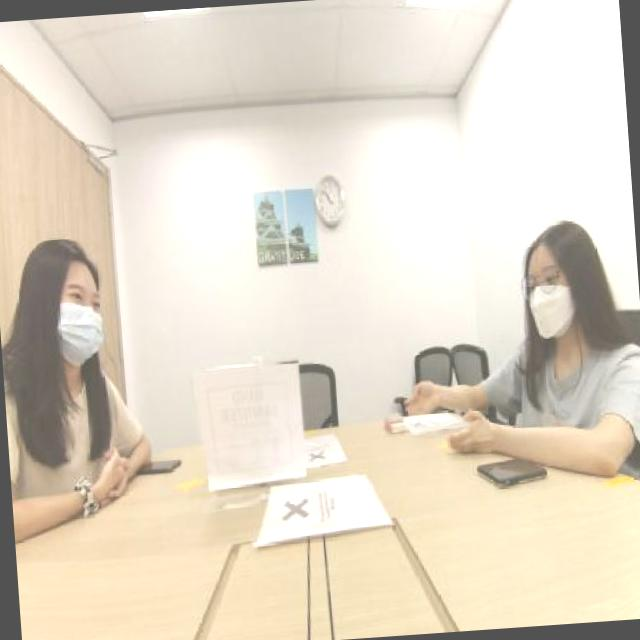Person: (438, 215, 640, 465), (0, 216, 135, 475)
